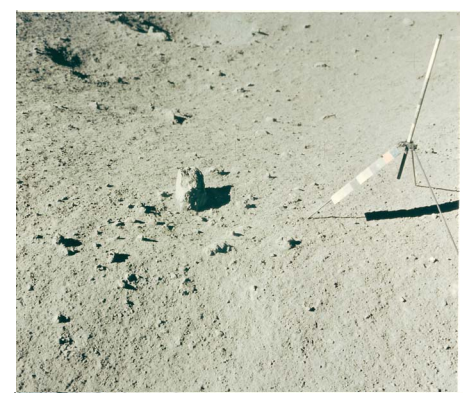Breccia: (113, 105, 247, 248)
